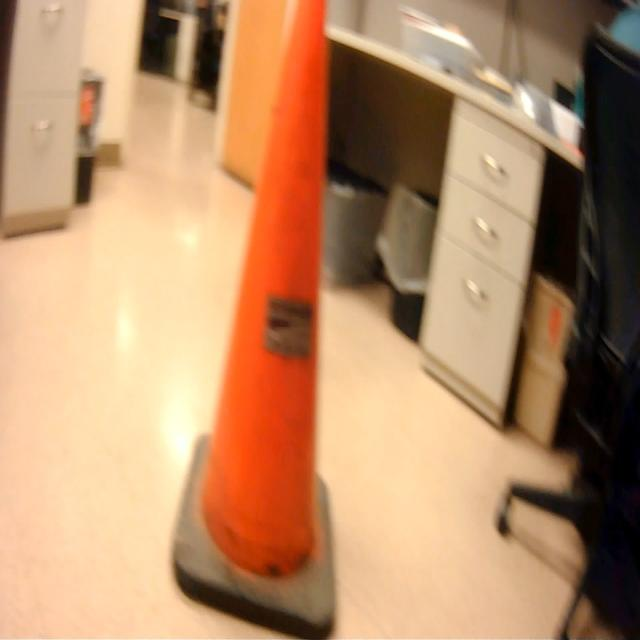traffic cone: (167, 1, 347, 640)
